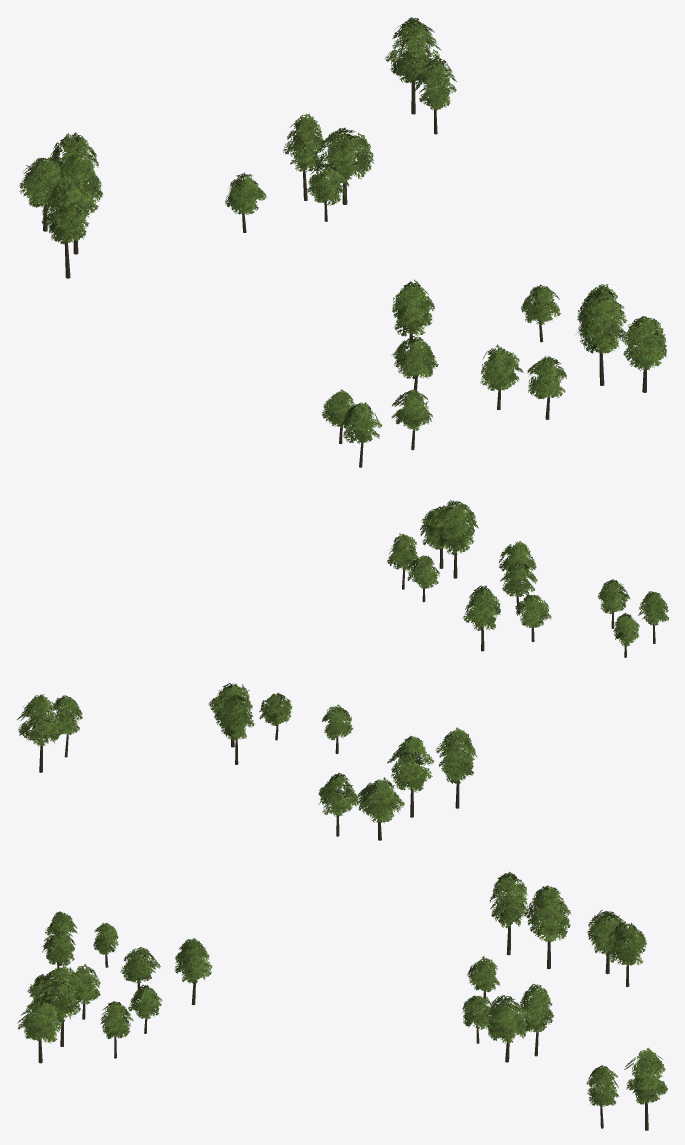
File: TRB8-FOREST-CHUNK-0-5.glb
3 renders of one model, top to bottom at view 1: azimuth 30°, elevation 25°; view 2: azimuth 150°, elevation 25°; view 3: azimuth 270°, elevation 25°, orthographic. The views are drawn at different scales.
Visible parts, largest first — view 1: TRB8-FOREST-CHUNK-0-5; view 2: TRB8-FOREST-CHUNK-0-5; view 3: TRB8-FOREST-CHUNK-0-5.
Boxes of the visible parts, bbox=[...] form: TRB8-FOREST-CHUNK-0-5: bbox=[19, 17, 666, 467]; TRB8-FOREST-CHUNK-0-5: bbox=[17, 500, 668, 840]; TRB8-FOREST-CHUNK-0-5: bbox=[17, 871, 667, 1130].
Size of the model in its own units: 30.44 by 7.4 by 42.77.
2 materials, 1 textured.
